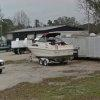Boat: (21, 34, 75, 68)
